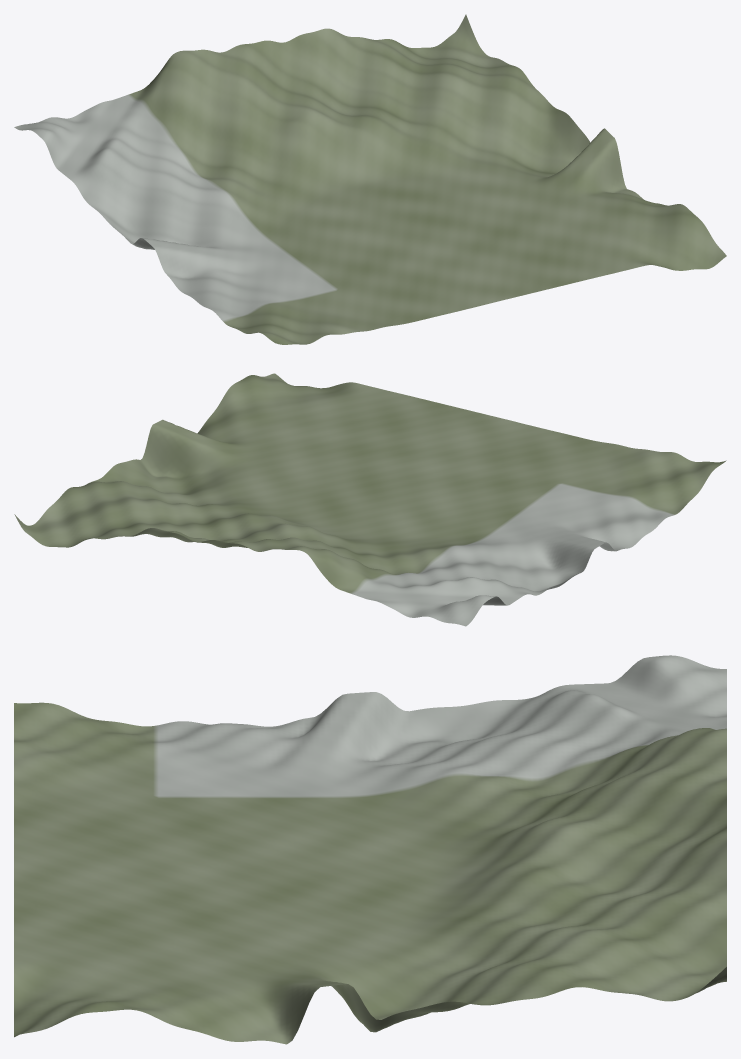
The model's file is terrain_1_2.glb.
3 views of the same model, one above another, from view 1: azimuth 30°, elevation 25°; view 2: azimuth 150°, elevation 25°; view 3: azimuth 270°, elevation 25° (orthographic). The views are drawn at different scales.
Parts seen in each view (by area): view 1: terrain_1_2; view 2: terrain_1_2; view 3: terrain_1_2.
Boxes of the visible parts, x1,y1,x2,y2 form: terrain_1_2: [14, 14, 726, 344]; terrain_1_2: [14, 373, 726, 626]; terrain_1_2: [14, 655, 726, 1044].
Bounding box in the file's own units: 512 × 99.9 × 512.
